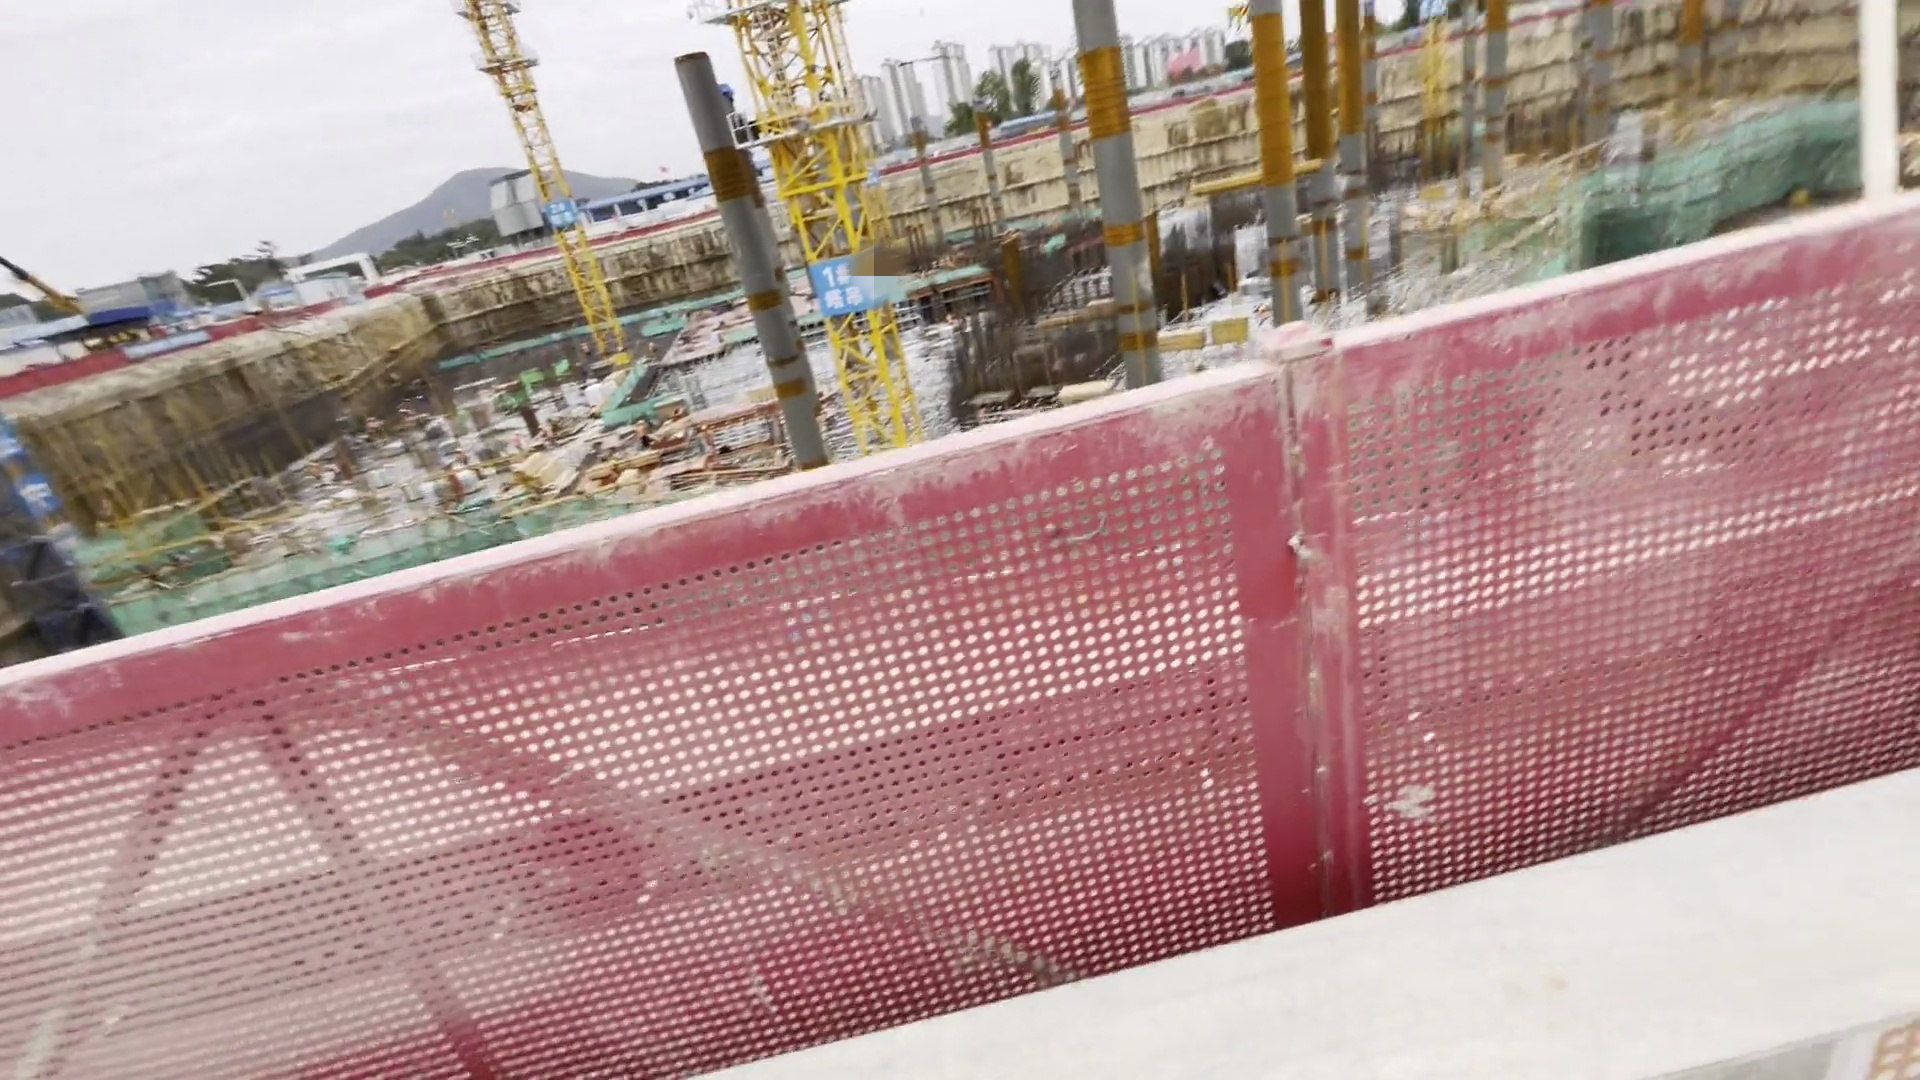fence: (1, 388, 1851, 1050)
